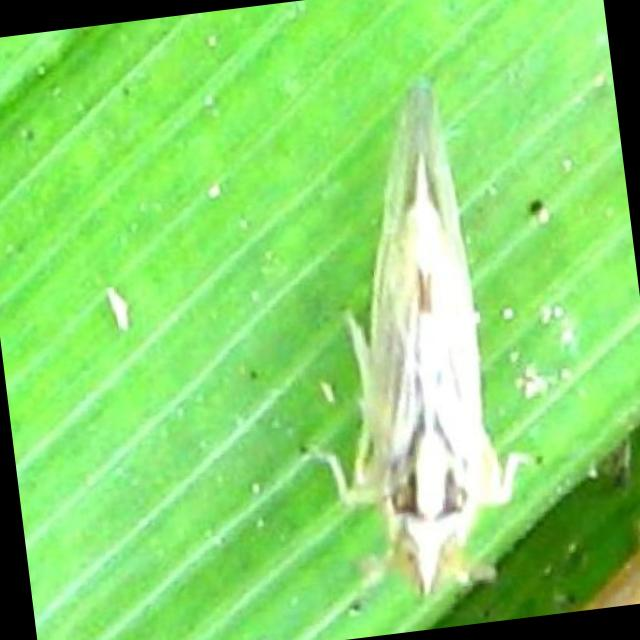brown-planthopper: (297, 67, 546, 600)
